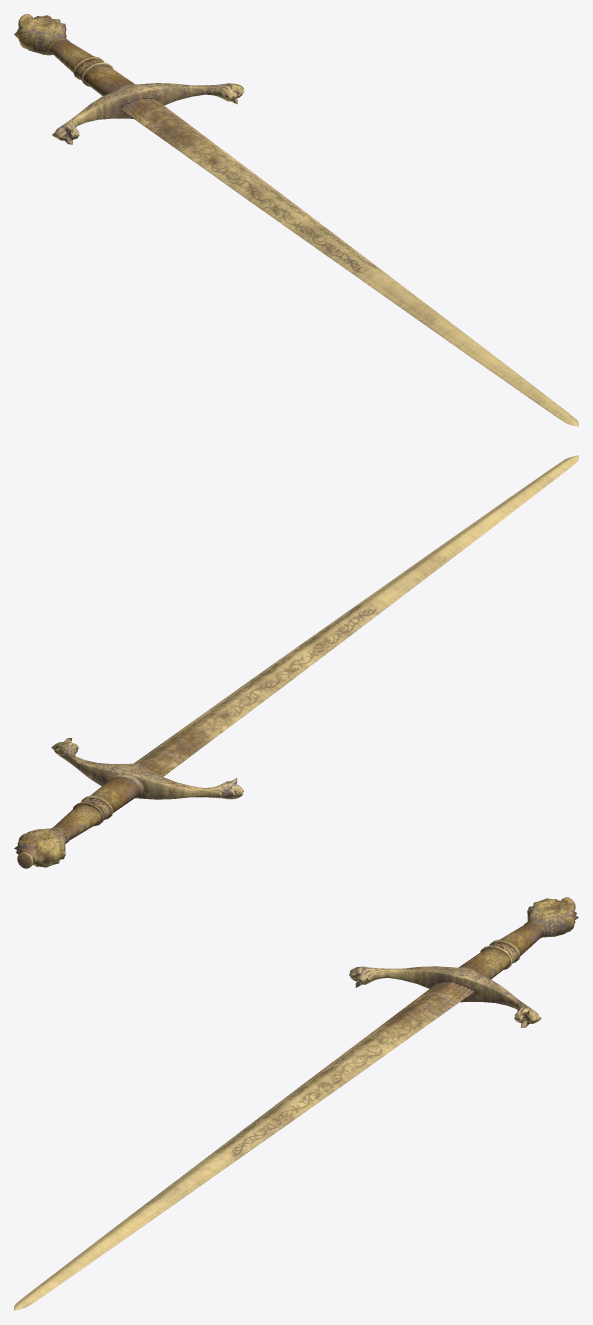
Rendered from noblesslendersword.fbx.
The picture shows the model from 3 angles, top to bottom: view 1: azimuth 30°, elevation 25°; view 2: azimuth 150°, elevation 25°; view 3: azimuth 330°, elevation 25°; orthographic projection.
Parts seen in each view (by area): view 1: WP_A_0211; view 2: WP_A_0211; view 3: WP_A_0211.
Boxes of the visible parts, left/top/right/bottom form: WP_A_0211: left=14, top=14, right=578, bottom=426; WP_A_0211: left=14, top=455, right=578, bottom=868; WP_A_0211: left=14, top=897, right=578, bottom=1310.
Bounding box in the file's own units: 23.31 × 3.1 × 116.
1 material, 1 textured.
